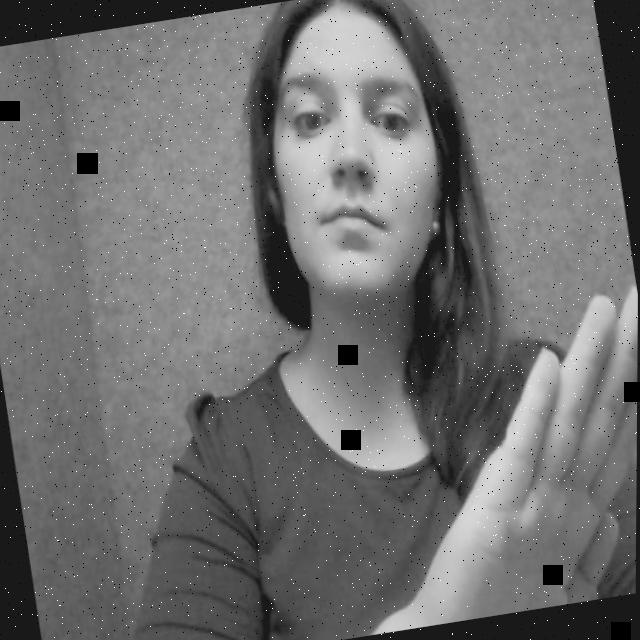Paper: (443, 280, 638, 609)
